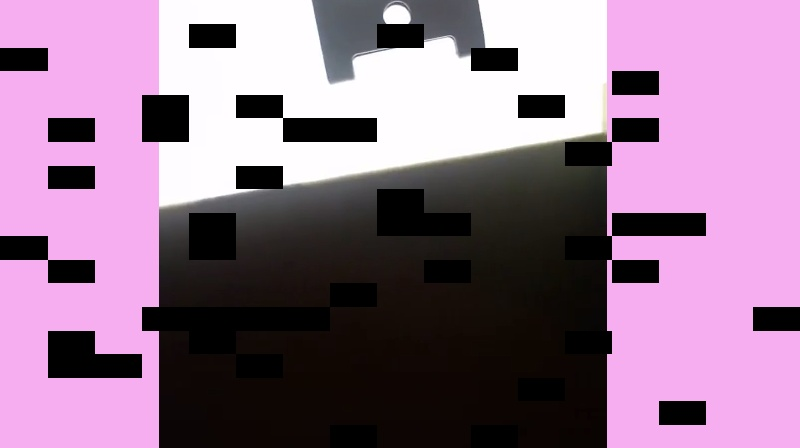O002: (304, 0, 489, 83)
